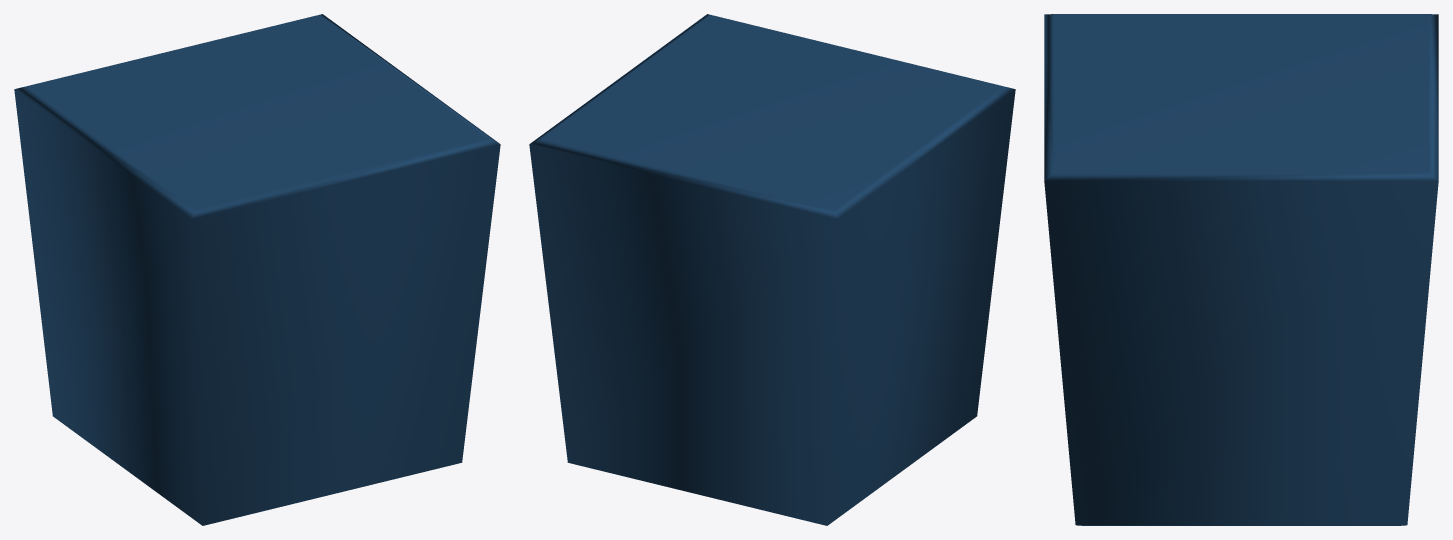
The model's file is B_Stone_01.fbx.
3 views of the same model, side by side, from view 1: azimuth 30°, elevation 25°; view 2: azimuth 150°, elevation 25°; view 3: azimuth 270°, elevation 25° (orthographic). The views are drawn at different scales.
Parts seen in each view (by area): view 1: B_Stone_01; view 2: B_Stone_01; view 3: B_Stone_01.
Boxes of the visible parts, x1,y1,x2,y2 form: B_Stone_01: (14,14,500,525); B_Stone_01: (529,14,1015,525); B_Stone_01: (1044,14,1438,525).
Bounding box in the file's own units: 87.55 × 89.74 × 87.55.
